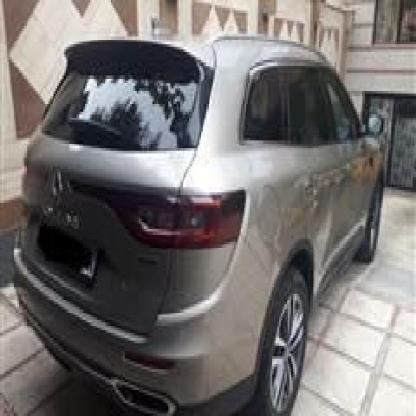Car: (19, 15, 384, 416)
